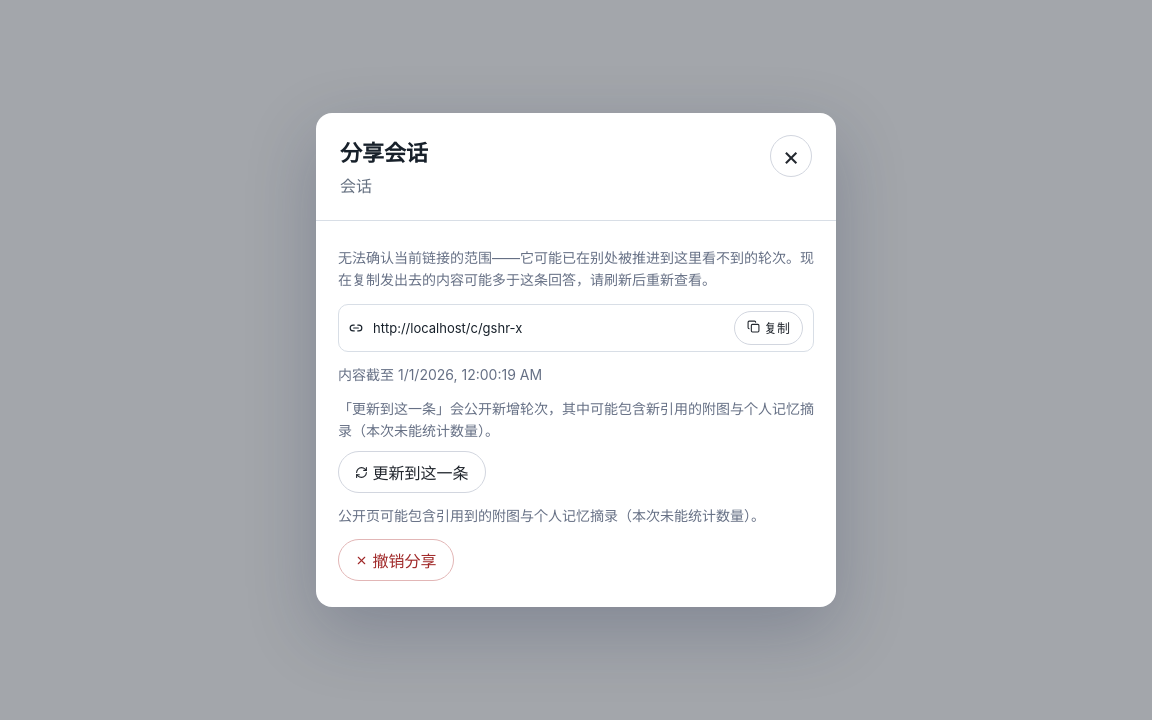
Test: 回答下的入口：「更新到这一条」仍在，点了之后读权失败的那句话就地出现
The width and height of the screenshot is (1152, 720).
Expected: the field named "分享链接" is shown, [371, 319, 726, 337]
Click the button "更新到这一条": {"x": 412, "y": 472} [338, 451, 486, 493]
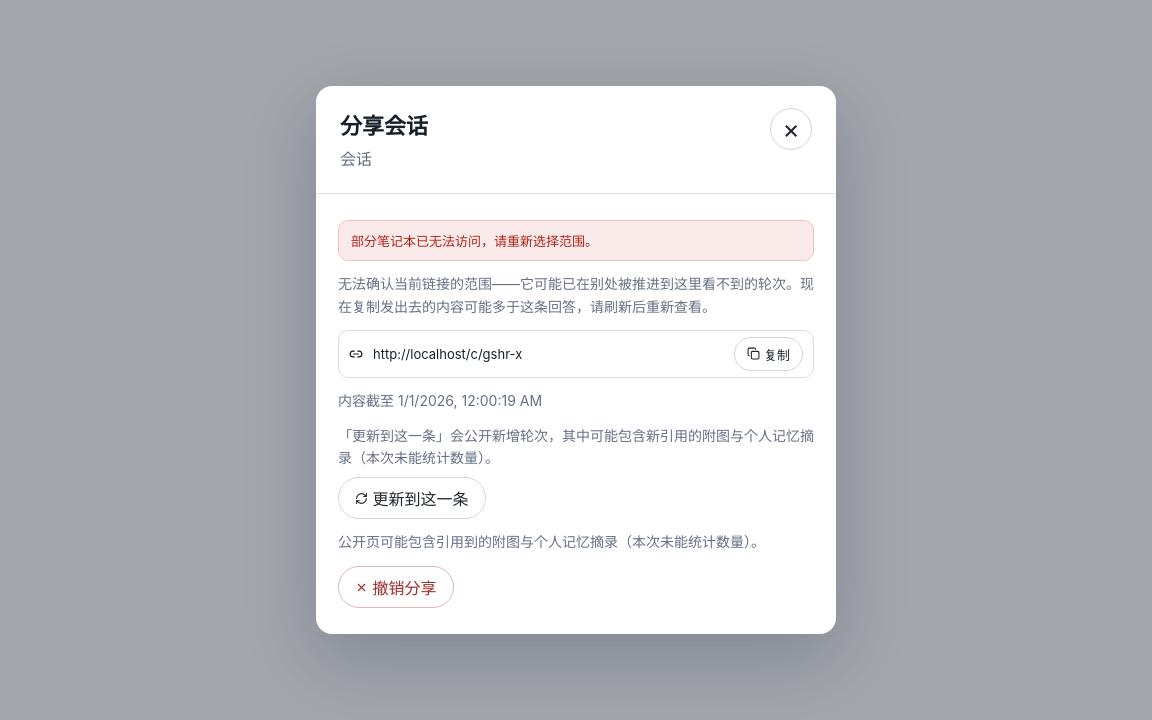
Now the text "部分笔记本已无法访问，请重新选择范围。" is shown, box [338, 220, 814, 261]
